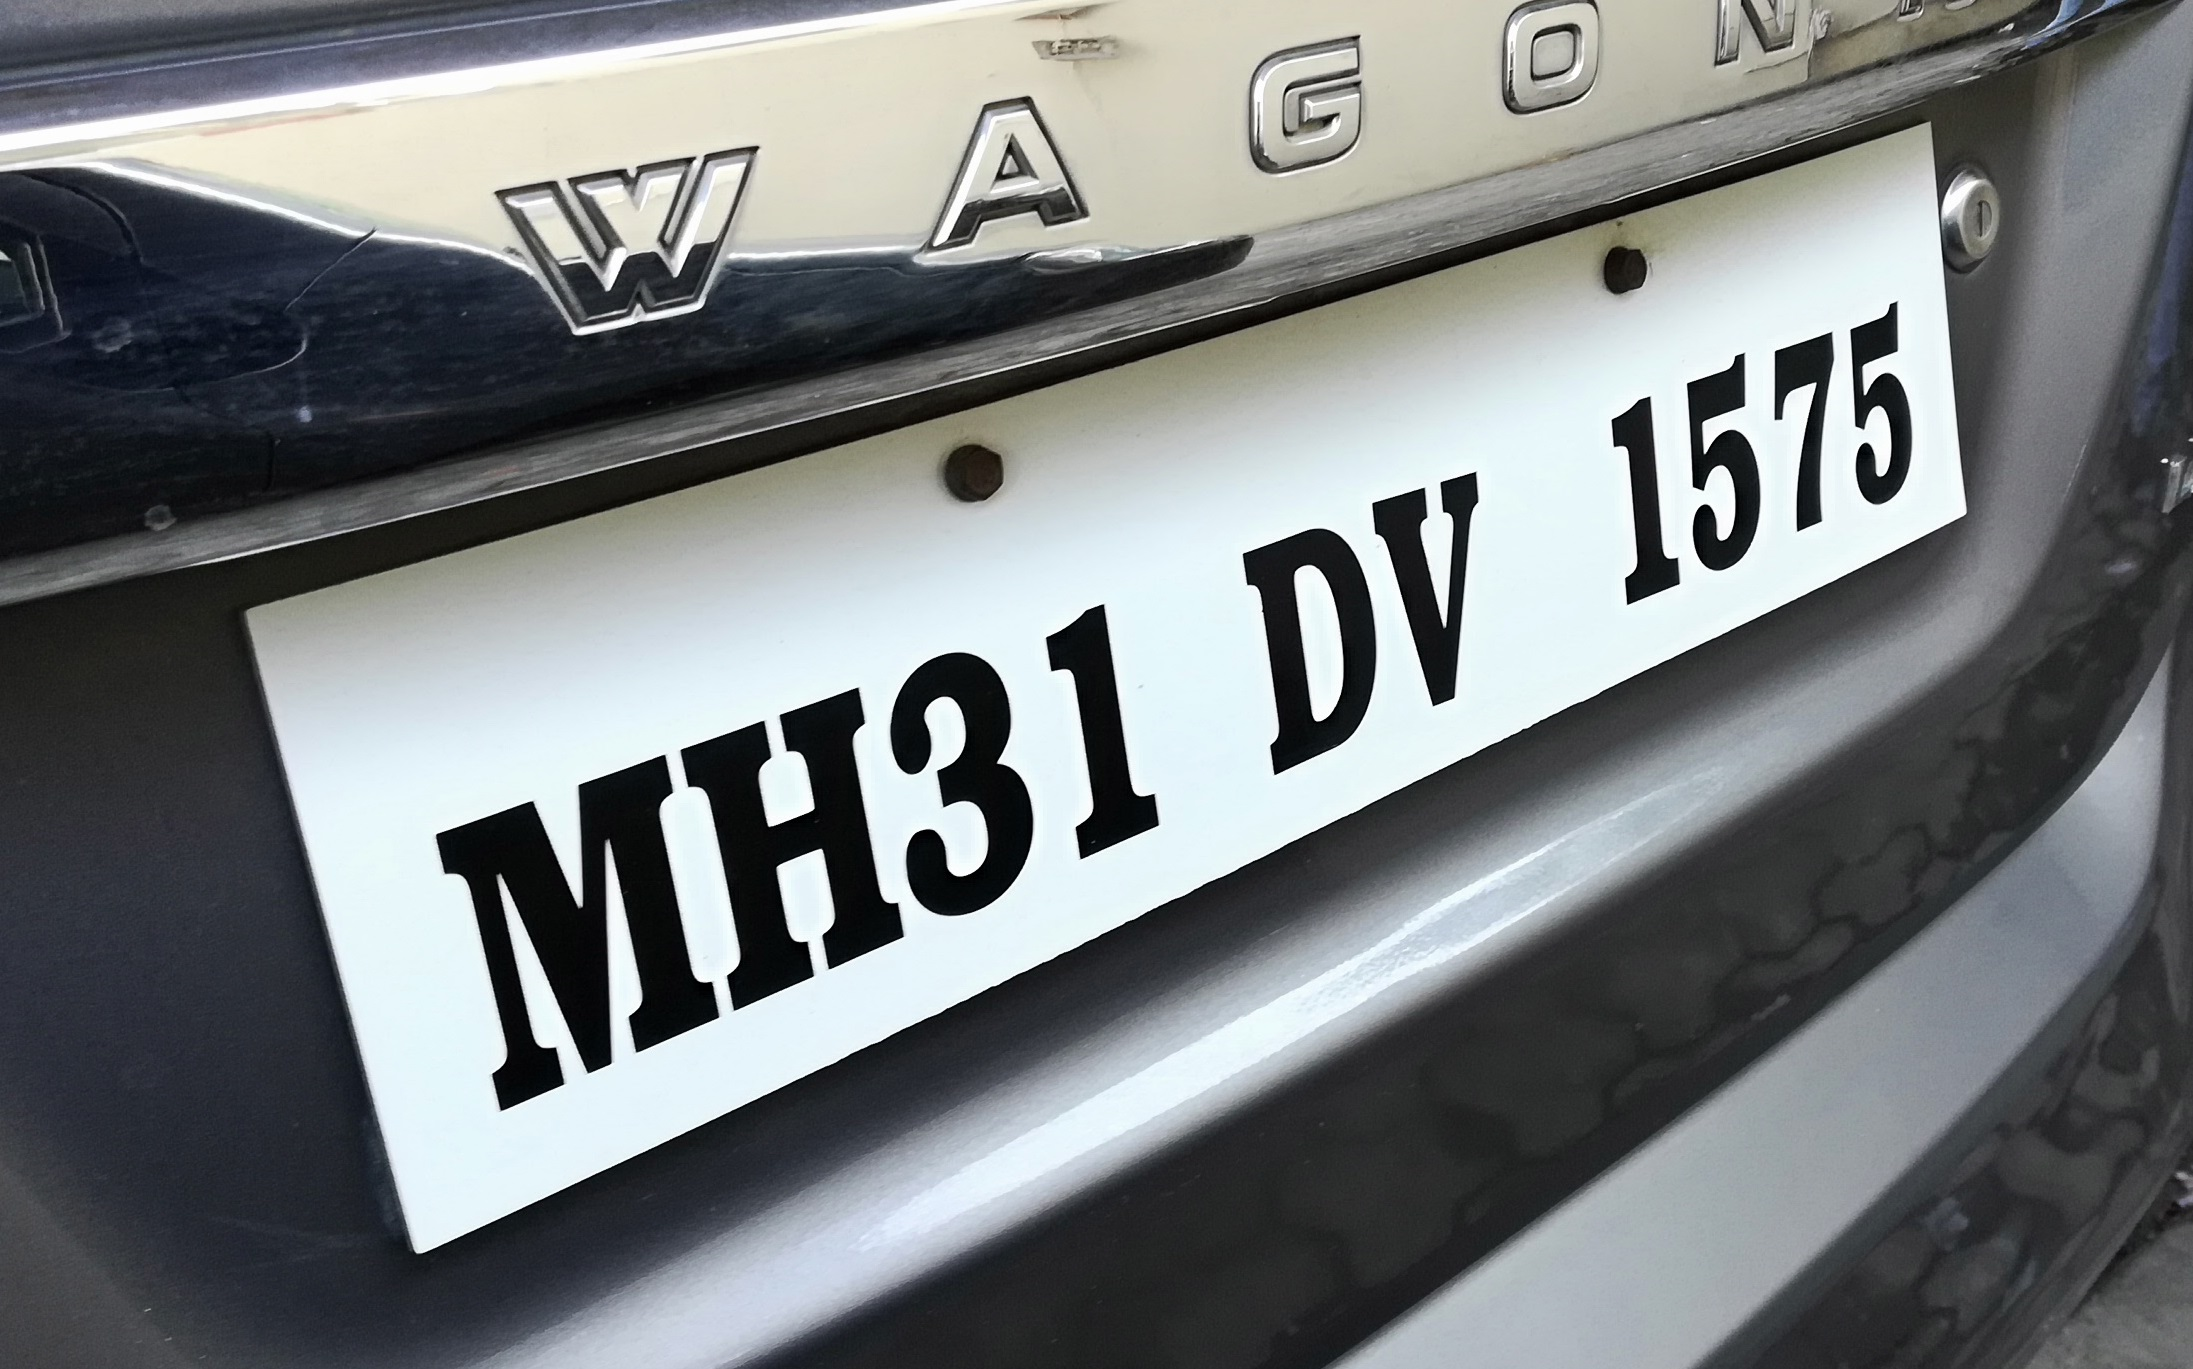numberplate: (224, 119, 1964, 1238)
